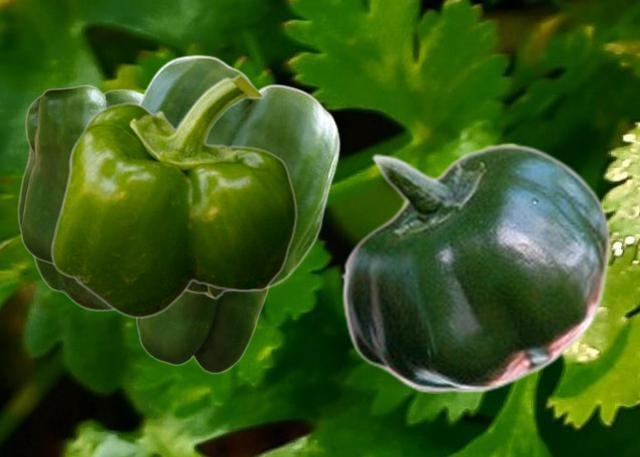bell_pepper: (340, 143, 610, 392), (50, 74, 296, 318), (138, 54, 339, 298), (17, 84, 142, 264), (135, 289, 269, 373), (32, 257, 113, 311)
